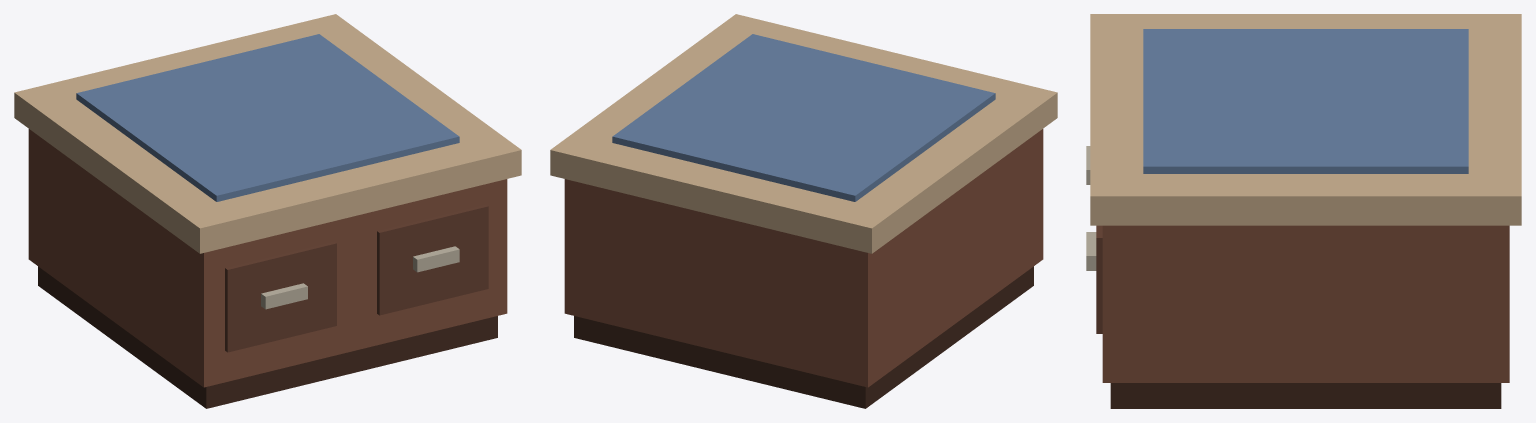
Rendered from k_meadow_wash.glb.
3 renders of one model, left to right at view 1: azimuth 30°, elevation 25°; view 2: azimuth 150°, elevation 25°; view 3: azimuth 270°, elevation 25°, orthographic. The views are drawn at different scales.
Parts seen in each view (by area): view 1: piece; view 2: piece; view 3: piece.
Boxes of the visible parts, box(x1,y1,x2,y2) form: piece: box(14, 14, 521, 408); piece: box(550, 14, 1057, 408); piece: box(1086, 14, 1521, 408).
Size of the model in its own units: 1.06 by 0.62 by 1.07.
